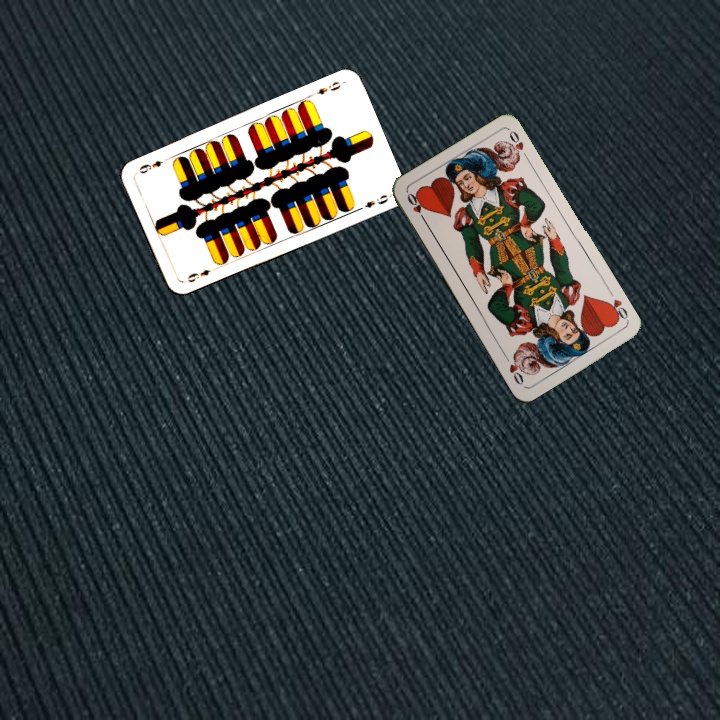E9: (184, 263, 219, 285), (312, 77, 345, 97)
HO: (403, 189, 429, 226), (602, 295, 632, 324)
